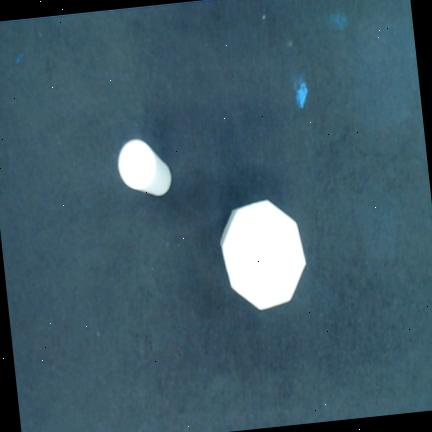Cilindro: (117, 139, 172, 197)
Prisma_hexagonal: (221, 201, 306, 310)
